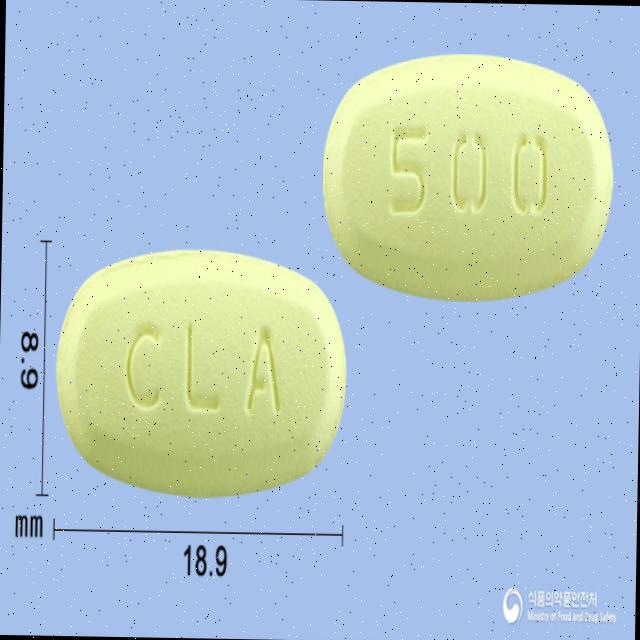Clar: (50, 242, 352, 504), (318, 44, 620, 306)
